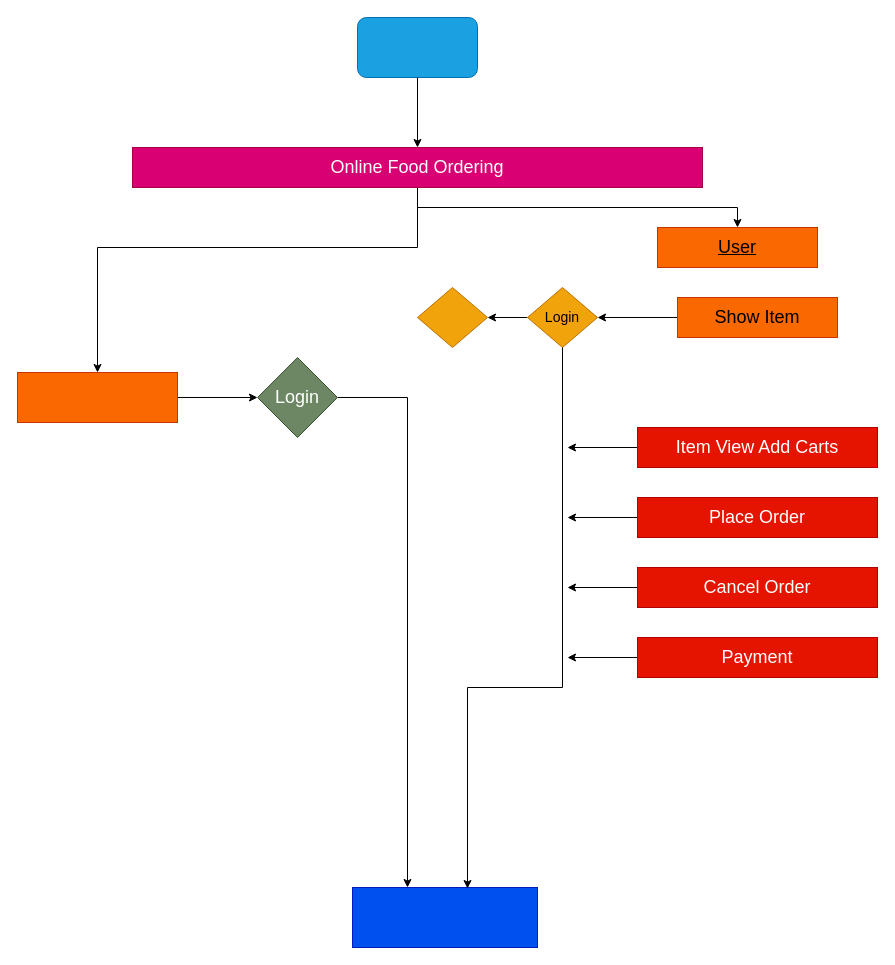
Some shapes in this 895 by 965 pixel diagram are drawn without their labels. The shapes that lost their labels are listed below. From the top down, each one's centre as x and y in pixels, then its label:
At point 417,47: "Start".
At point 452,317: "Reg".
At point 97,397: "Admin".
At point 445,917: "Logout".
